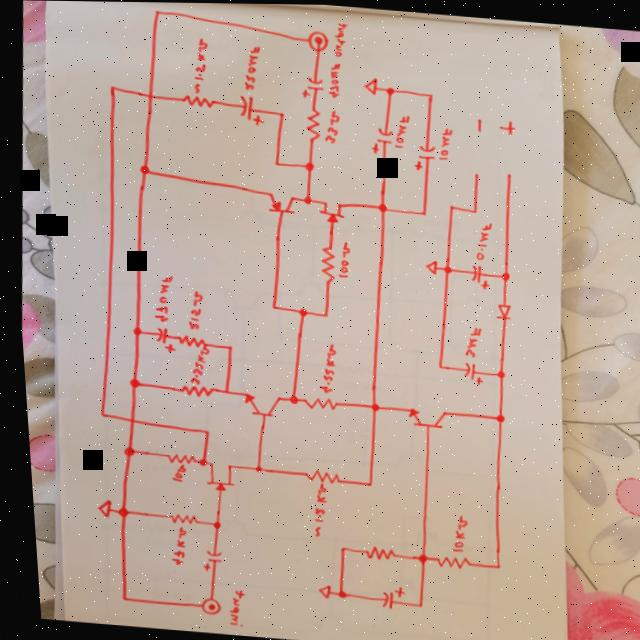capacitor: (368, 580, 400, 614), (235, 94, 266, 127), (408, 141, 435, 171), (366, 124, 392, 154), (297, 74, 324, 100), (148, 326, 172, 353), (456, 359, 480, 384), (464, 262, 486, 289), (192, 548, 215, 572)
crossover: (143, 90, 154, 101), (120, 415, 131, 424)
diode: (488, 300, 510, 321)
ground: (87, 498, 107, 519), (360, 76, 378, 95), (307, 583, 323, 598), (420, 259, 435, 274)
junction: (108, 505, 122, 519), (115, 445, 130, 458), (134, 163, 148, 176), (407, 551, 421, 564), (326, 587, 340, 600), (281, 393, 295, 406), (121, 376, 135, 389), (487, 411, 500, 424), (494, 270, 507, 282), (189, 456, 203, 467), (437, 262, 449, 274), (373, 201, 385, 213), (300, 160, 312, 172), (126, 325, 138, 336), (292, 307, 304, 318), (489, 368, 501, 379), (203, 519, 215, 530), (329, 543, 341, 554), (357, 477, 369, 488), (150, 8, 162, 19), (299, 194, 310, 205), (383, 85, 394, 96), (363, 401, 374, 412), (263, 301, 274, 312), (484, 559, 495, 570), (406, 600, 417, 610), (105, 83, 116, 93), (219, 342, 229, 352), (245, 464, 256, 473), (111, 593, 120, 603), (269, 158, 279, 167), (275, 109, 284, 118), (316, 310, 325, 319), (92, 410, 101, 419), (424, 90, 433, 99), (196, 428, 205, 437), (216, 386, 225, 395), (416, 208, 425, 216), (444, 203, 452, 211), (431, 362, 439, 369), (468, 207, 475, 214)
resistor: (312, 242, 336, 282), (301, 106, 321, 141), (296, 467, 334, 485), (354, 543, 390, 562), (297, 394, 334, 412), (426, 553, 464, 570), (171, 382, 209, 399), (179, 93, 215, 109), (172, 333, 202, 348), (161, 512, 191, 526), (159, 452, 189, 466)
terminal: (304, 30, 328, 52), (191, 597, 214, 616), (501, 169, 511, 179), (470, 169, 477, 175)
text: (310, 339, 334, 395), (186, 35, 209, 93), (301, 483, 324, 539), (146, 272, 171, 323), (239, 42, 262, 92), (181, 343, 206, 386), (469, 218, 491, 261), (216, 587, 239, 628), (441, 511, 463, 553), (180, 288, 201, 332), (160, 525, 182, 567), (455, 324, 479, 359), (389, 111, 409, 149), (329, 21, 349, 58), (319, 108, 340, 143), (323, 60, 342, 98), (433, 125, 453, 161), (332, 239, 350, 279), (162, 463, 180, 483), (495, 118, 514, 135), (472, 115, 482, 132)
transistor: (396, 402, 443, 431), (233, 387, 275, 419), (195, 460, 230, 493), (260, 188, 295, 218), (312, 197, 346, 227)
